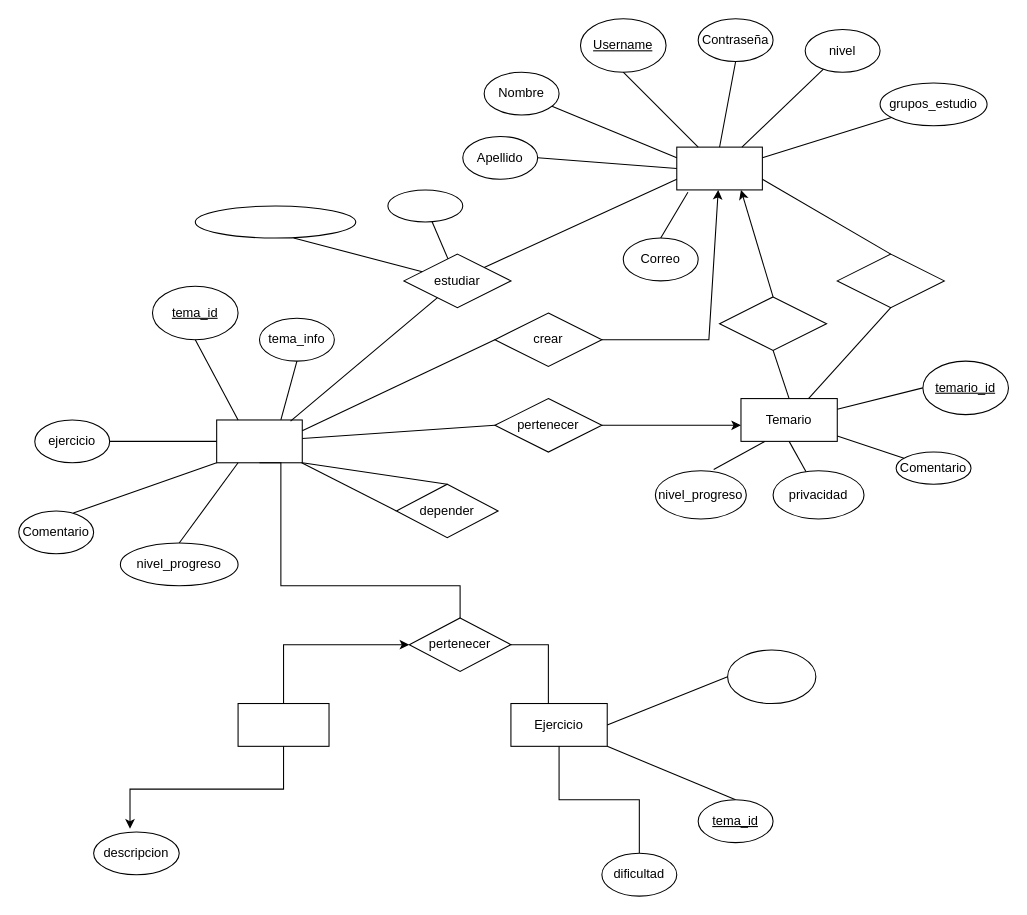
This 1027x915 diagram has some shape labels left out. The centre of each missing label's shape, as x and y in pixels:
"aprender" goes at (890,280).
"contador" goes at (425,205).
"diseñar" goes at (773,323).
"ejercicio_id" goes at (771,676).
"Tema" goes at (259,441).
"Teoria" goes at (283,724).
"ultima_fecha_repaso" goes at (275,221).
"Usuario" goes at (719,168).
